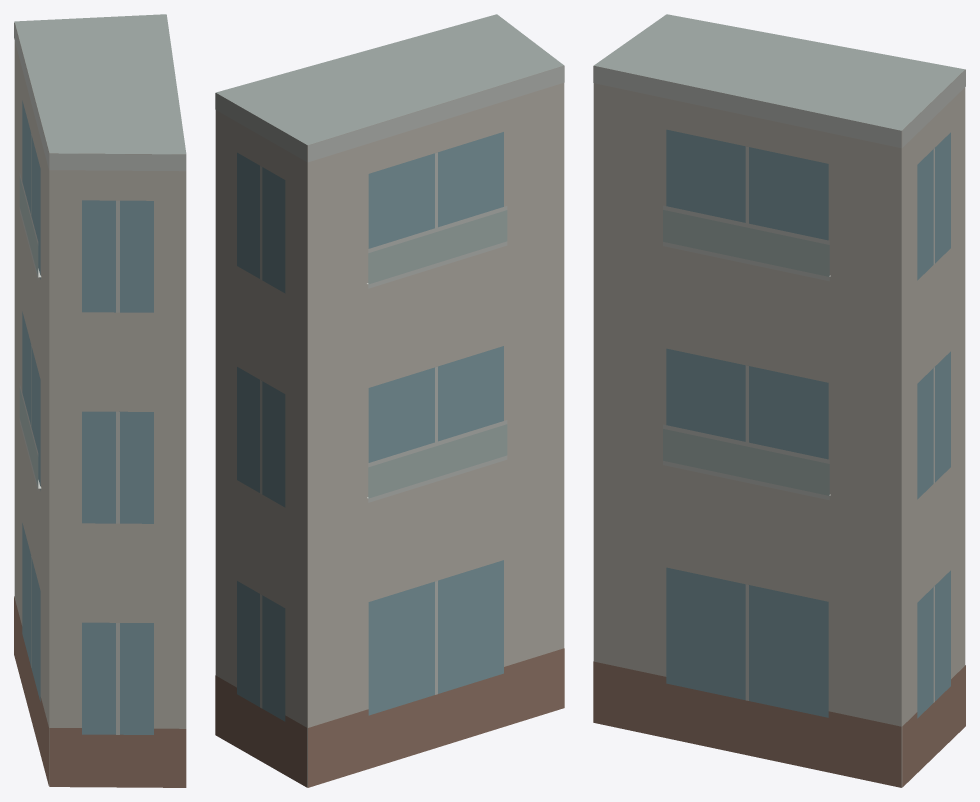
The model's file is survey-upis-32922663.glb.
The picture shows the model from 3 angles, left to right: view 1: azimuth 30°, elevation 25°; view 2: azimuth 150°, elevation 25°; view 3: azimuth 270°, elevation 25°; orthographic projection. The views are drawn at different scales.
Visible parts, largest first — view 1: survey-upis-32922663.tmp; view 2: survey-upis-32922663.tmp; view 3: survey-upis-32922663.tmp.
Part boxes in pixels (box(x1,y1,x2,y2)): survey-upis-32922663.tmp: box(14, 14, 186, 787); survey-upis-32922663.tmp: box(215, 14, 564, 787); survey-upis-32922663.tmp: box(593, 14, 965, 787).
Size of the model in its own units: 3.5 by 9.15 by 4.7.
